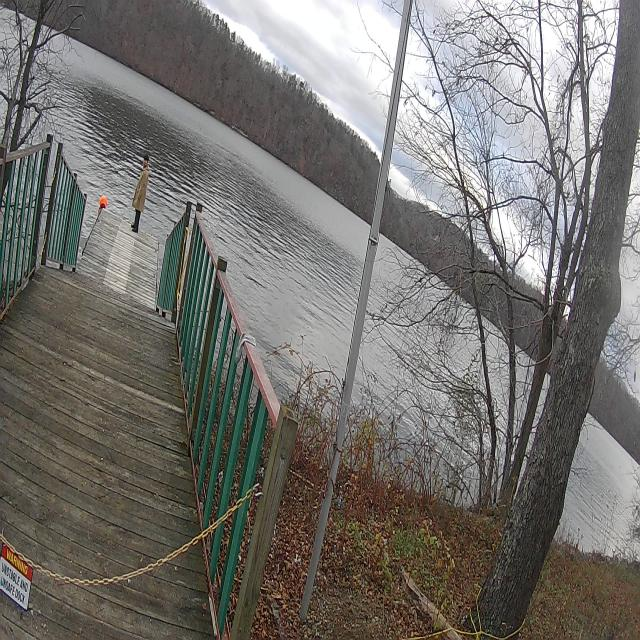Buoy: (99, 196, 108, 209)
